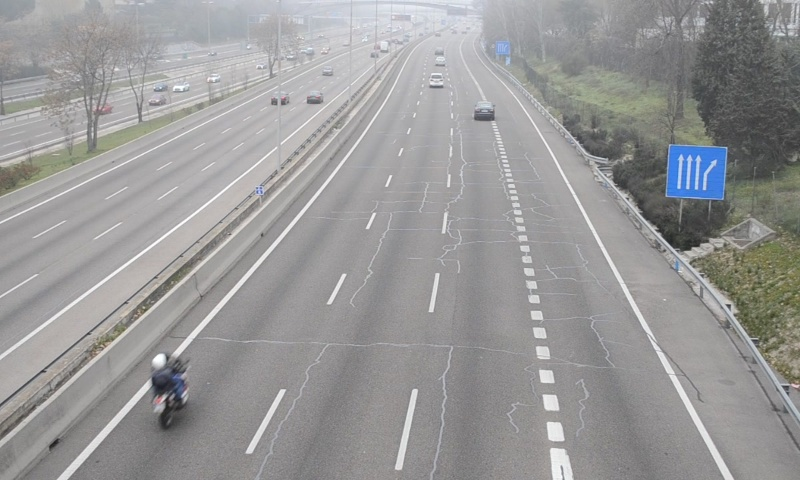car: (473, 100, 494, 120), (428, 73, 445, 89)
motorcycle: (148, 353, 190, 426)
